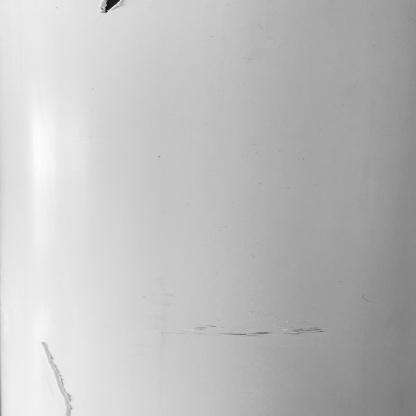sunshang: (38, 340, 74, 415)
